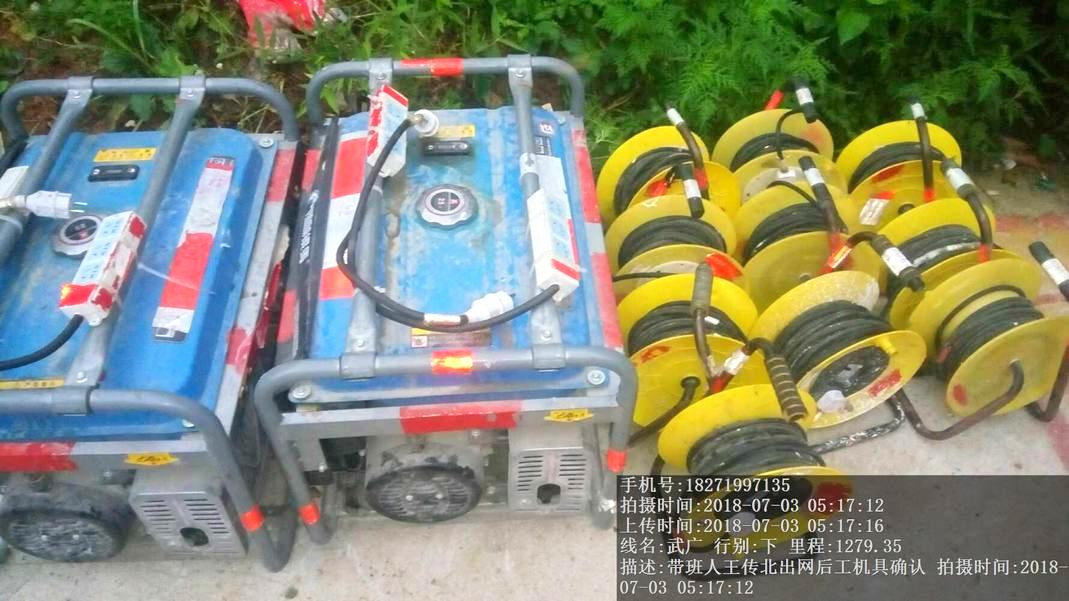DJ: (279, 66, 630, 532), (1, 80, 295, 568)
DX: (907, 259, 1064, 437), (774, 270, 905, 445), (627, 266, 759, 393)
